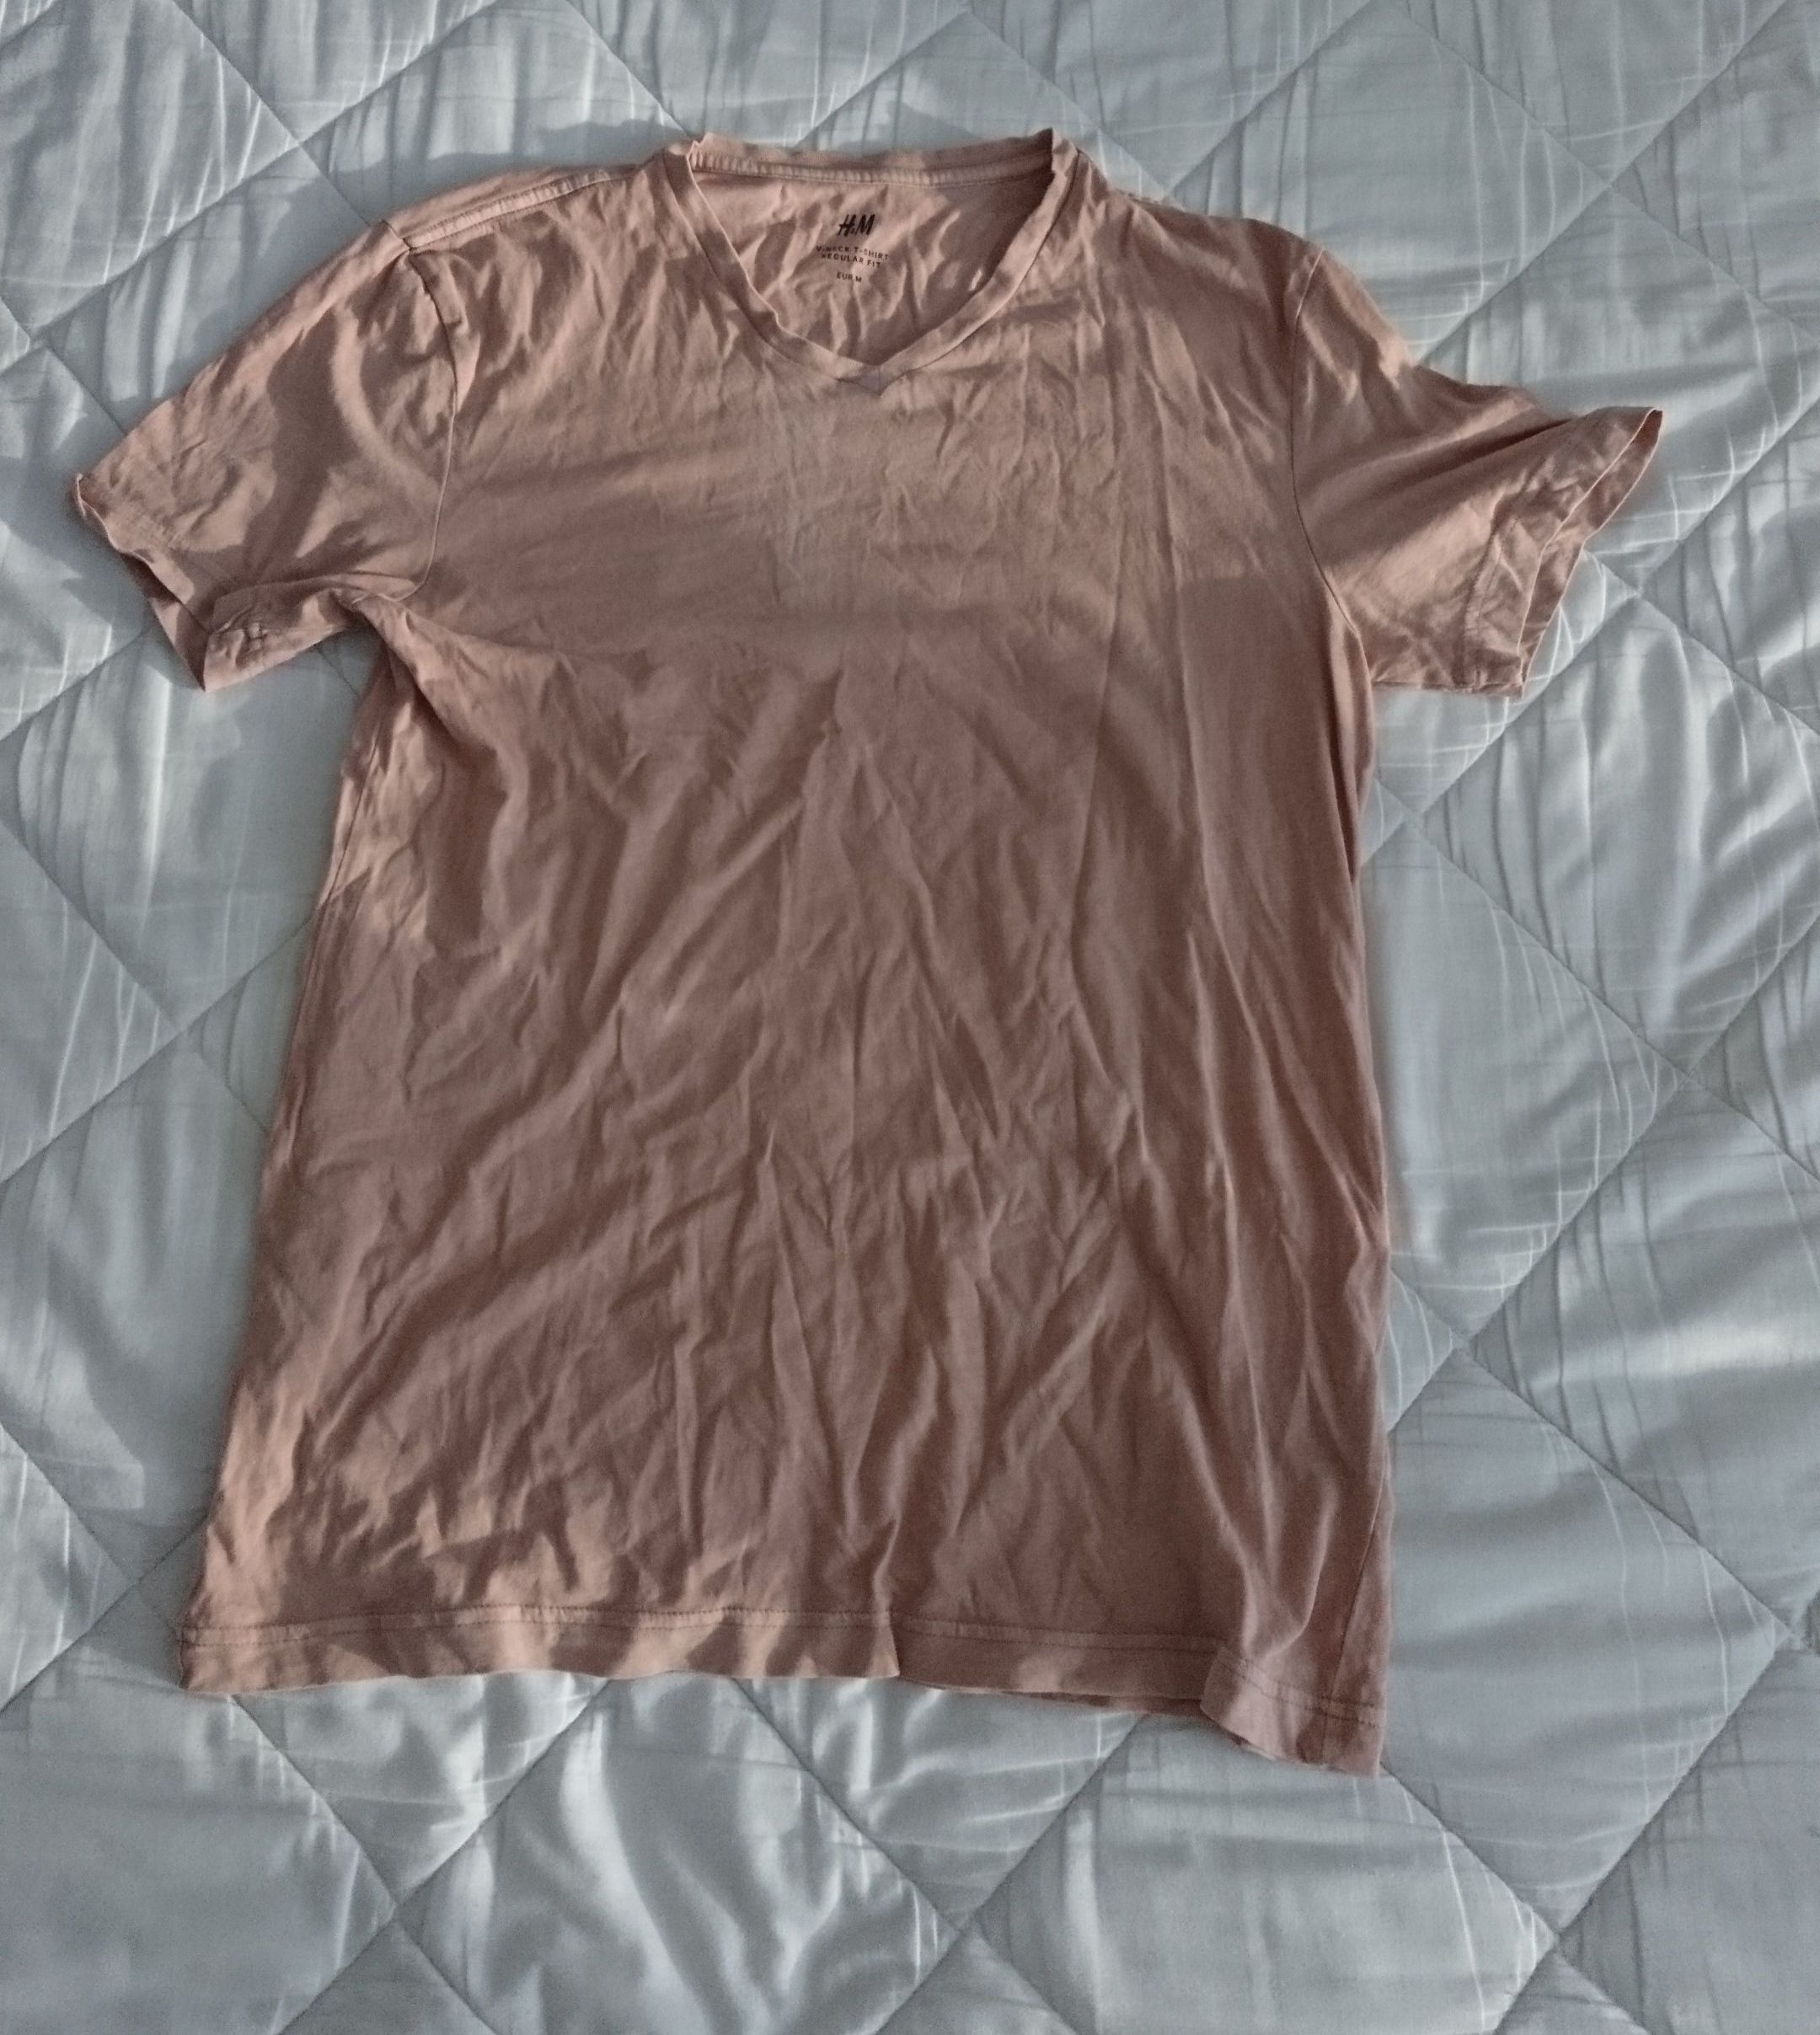clothes: (61, 123, 1627, 1815)
